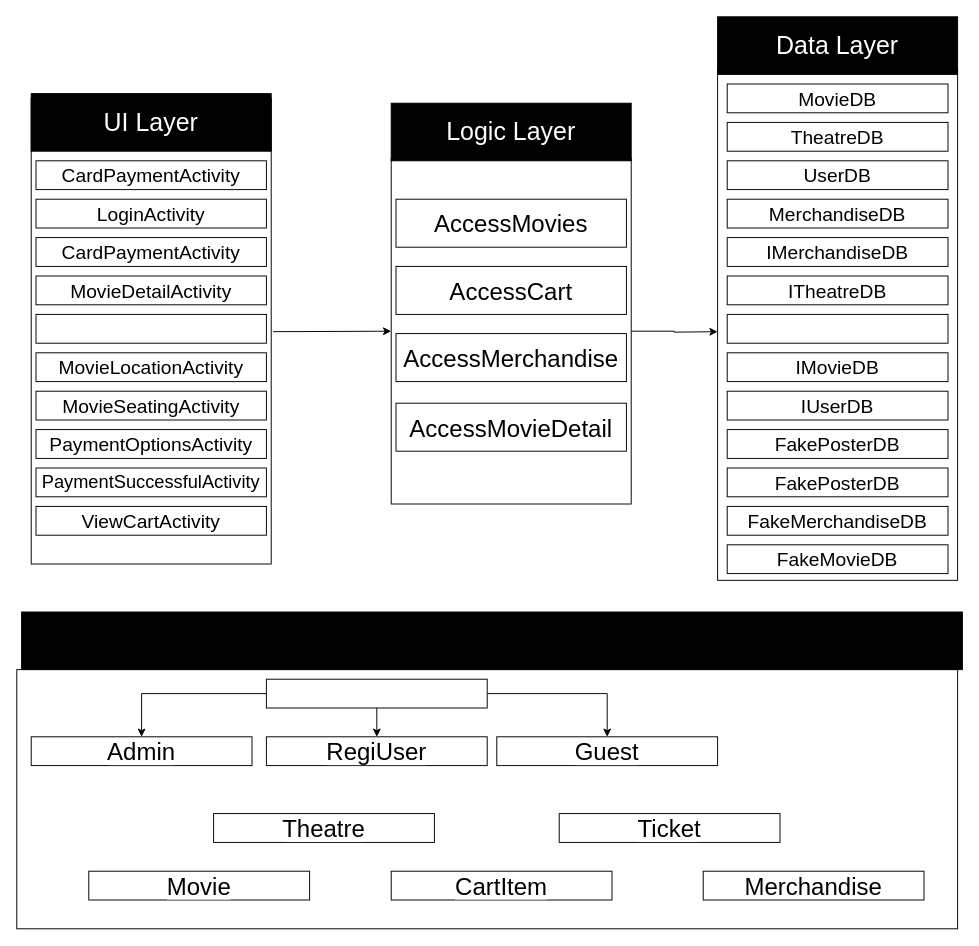
Some shapes in this 979 by 946 pixel diagram are drawn without their labels. Here are the shapes that lost their labels. From the top down, the box of each, then its label:
(35, 313, 266, 343): MovieListActivity
(726, 313, 948, 343): IPosterDB
(21, 611, 962, 670): Domain Specific Objects
(265, 678, 487, 708): User
